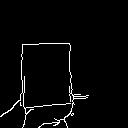cube: (11, 37, 81, 110)
